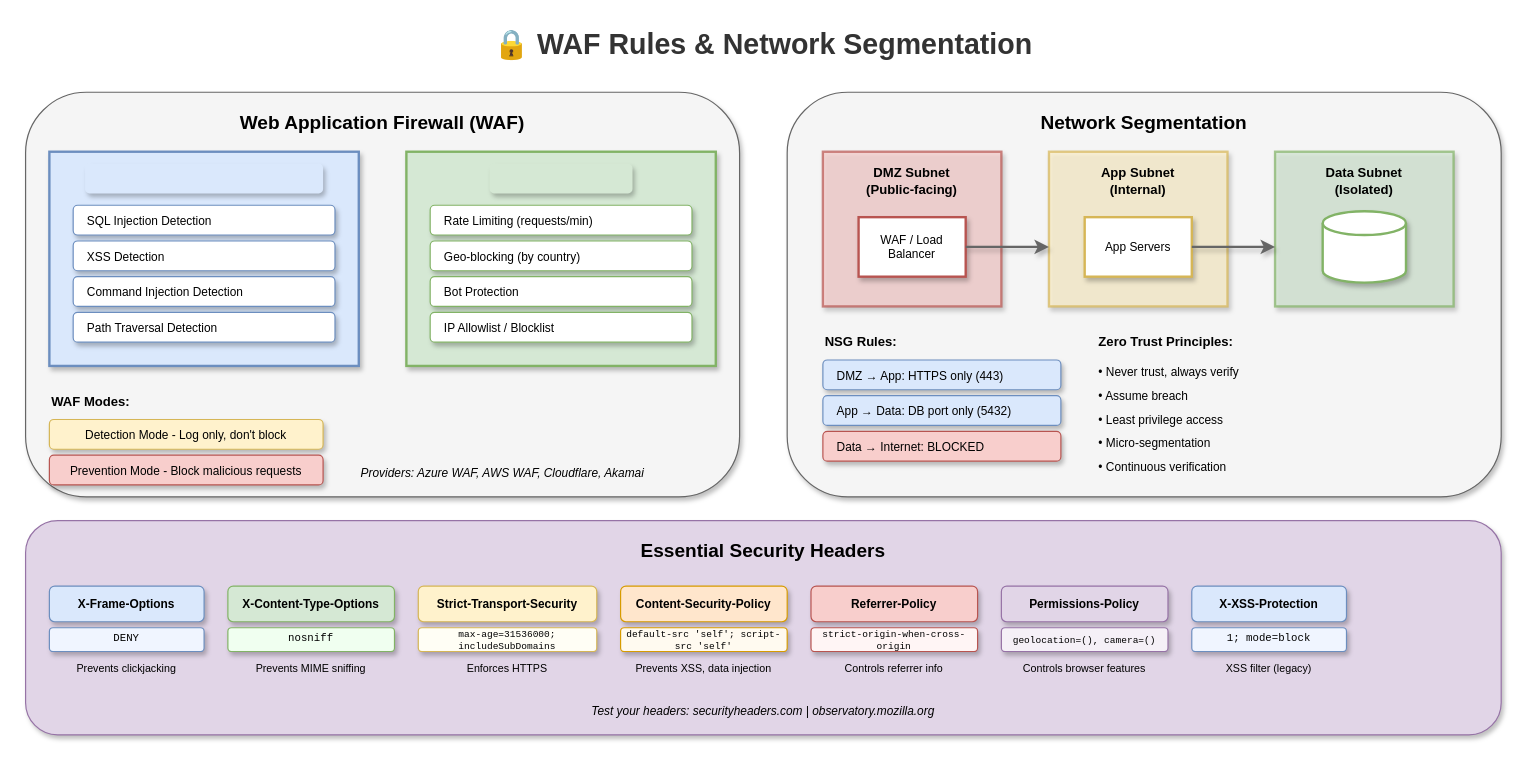
This 1529x764 diagram has some shape labels left out. The shapes that lost their labels are listed below. From the top down, each one's centre as x and y in pixels, then its label:
point 205,179: OWASP Core Rule Set (CRS)
point 561,179: Custom Rules
point 1365,248: Databases
